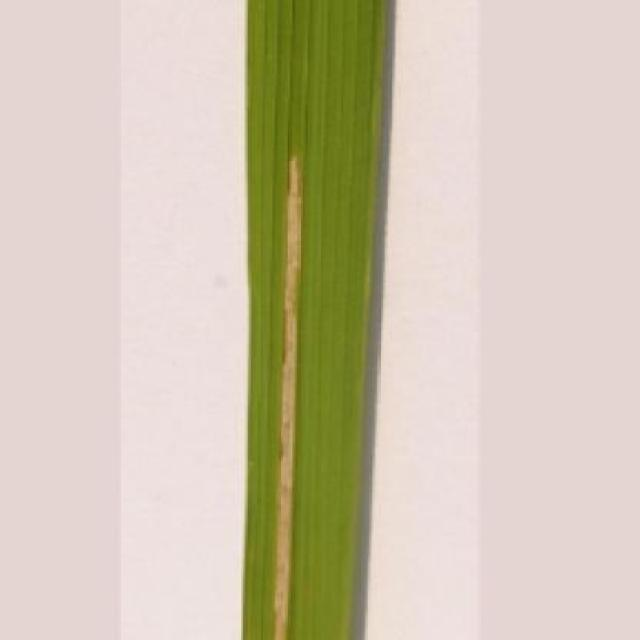Brown_Spot: (236, 0, 396, 640)
